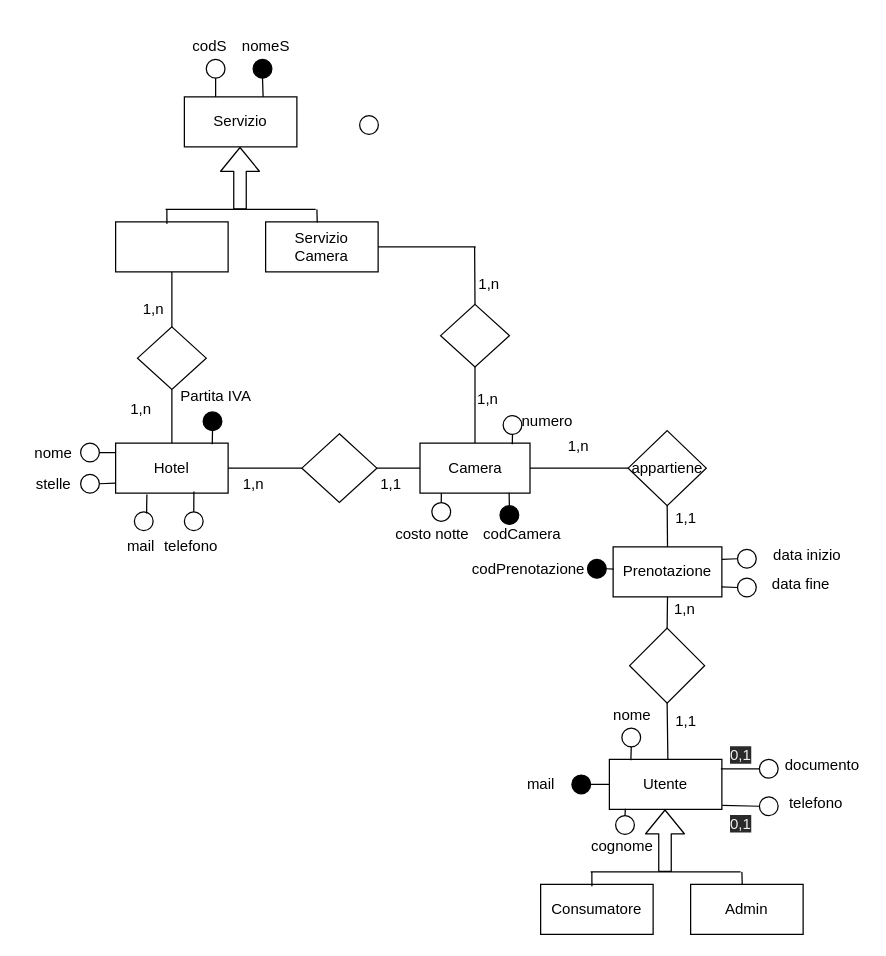
This 886x956 diagram has some shape labels left out. Here are the shapes that lost their labels. From the top down, the box of each, then its label:
(114, 221, 228, 272): Servizio Hotel
(439, 303, 509, 367): garant.
(136, 326, 206, 389): offerta
(301, 432, 377, 502): possiede
(628, 627, 705, 703): effettua
